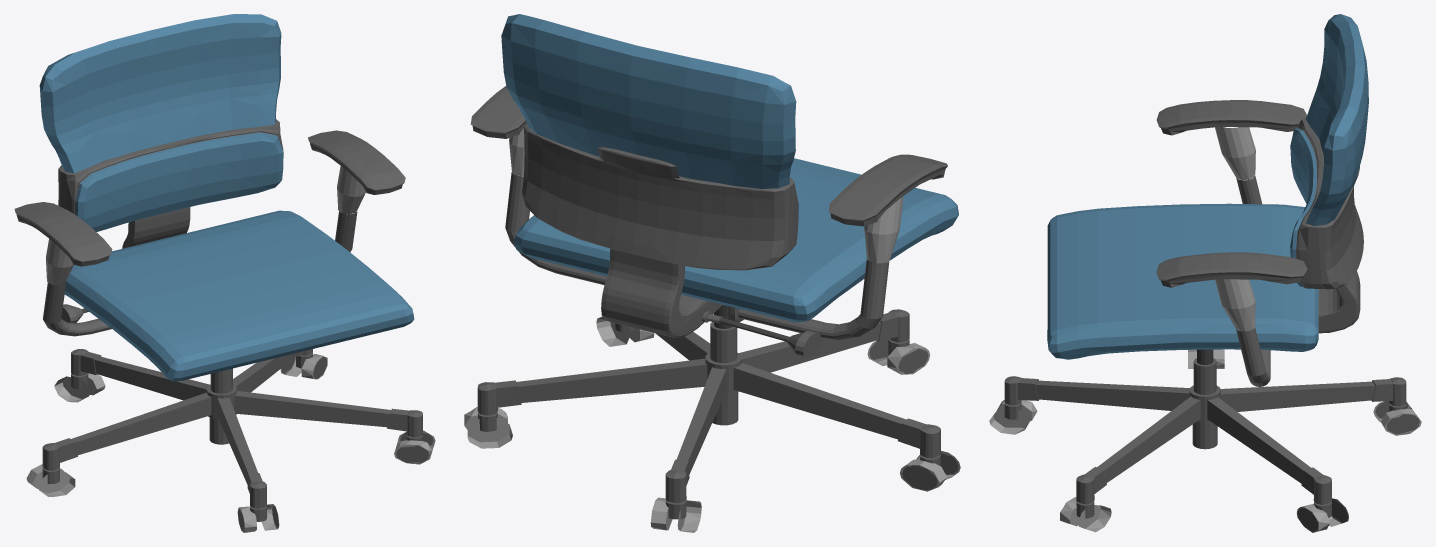
Rendered from sh-scopia-office-chair.glb.
3 renders of one model, left to right at view 1: azimuth 30°, elevation 25°; view 2: azimuth 150°, elevation 25°; view 3: azimuth 270°, elevation 25°, orthographic. The views are drawn at different scales.
Parts seen in each view (by area): view 1: sillaOfi_respaldo, sillaOfi_ruedas.0, sillaOfi_soporte..001; view 2: sillaOfi_ruedas.0, sillaOfi_respaldo, sillaOfi_soporte..001, sillaOfi_soporte.; view 3: sillaOfi_respaldo, sillaOfi_ruedas.0, sillaOfi_soporte..001.
Part boxes in pixels (x1=…): sillaOfi_respaldo: x1=39, y1=14, x2=414, y2=381; sillaOfi_ruedas.0: x1=14, y1=119, x2=433, y2=531; sillaOfi_soporte..001: x1=26, y1=166, x2=435, y2=532; sillaOfi_ruedas.0: x1=470, y1=86, x2=958, y2=519; sillaOfi_respaldo: x1=501, y1=14, x2=958, y2=322; sillaOfi_soporte..001: x1=464, y1=128, x2=960, y2=532; sillaOfi_soporte.: x1=714, y1=305, x2=789, y2=341; sillaOfi_respaldo: x1=1047, y1=14, x2=1368, y2=359; sillaOfi_ruedas.0: x1=1004, y1=100, x2=1419, y2=531; sillaOfi_soporte..001: x1=989, y1=127, x2=1421, y2=532.
Size of the model in its own units: 1 by 1 by 1.
